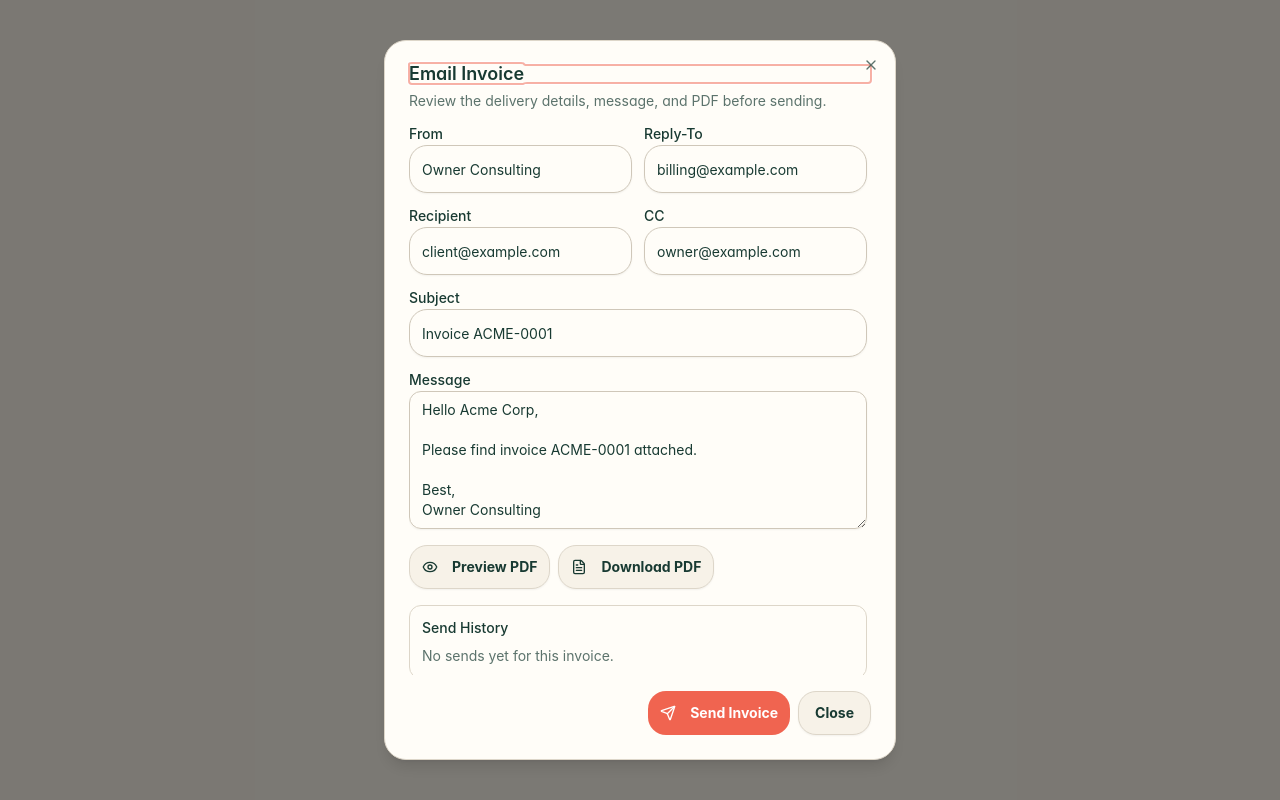
Test case: EmailInvoiceDialog — editable delivery and result states (R2/R3/R5) › replaces the composer with a simple Sent confirmation on success
Click the button "Send Invoice" at x=719, y=713, box x1=648 y1=691 x2=790 y2=735
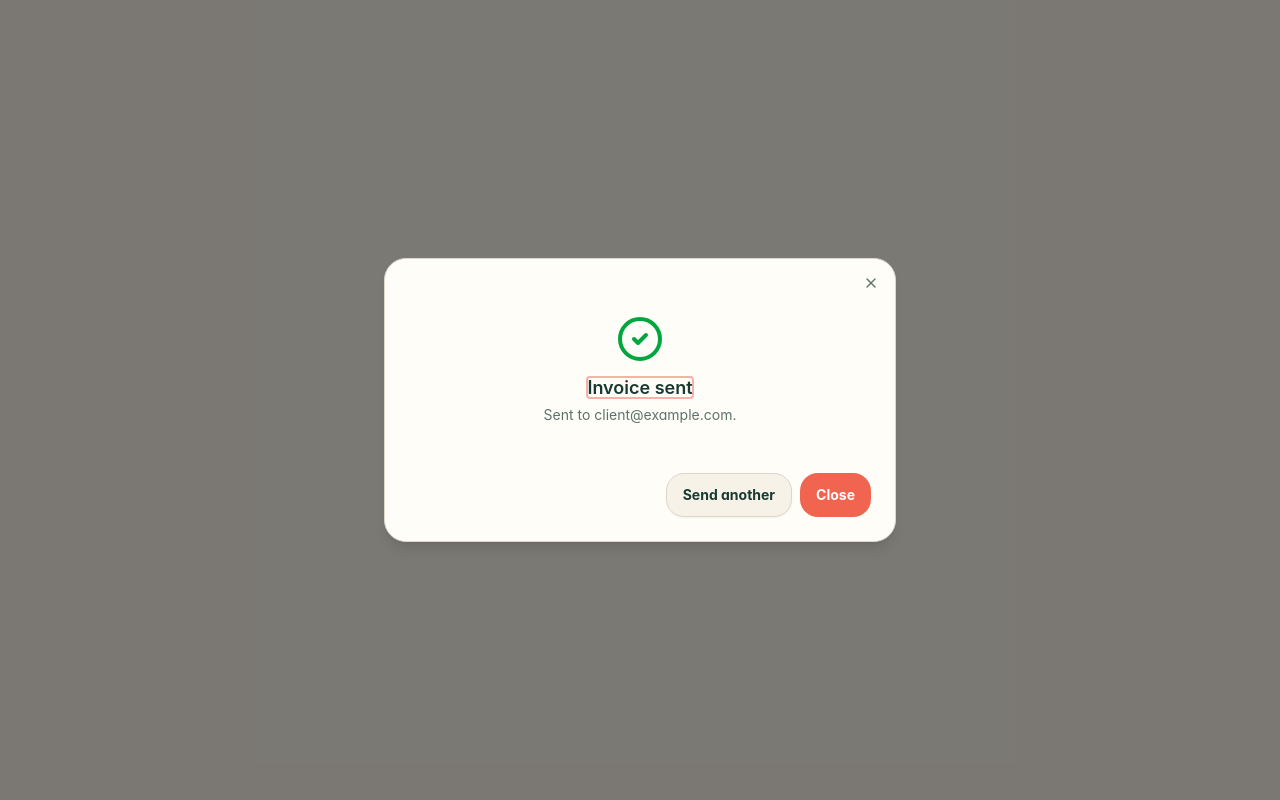
Expected: the heading "Invoice sent" is shown, x1=587 y1=379 x2=693 y2=397
Expected: the text "Sent to client@example.com." is shown, x1=544 y1=405 x2=736 y2=425
Expected: the label labelled "Subject" is gone
